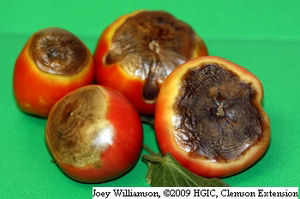blossom_rotw: (182, 63, 263, 164), (112, 14, 190, 94), (56, 97, 112, 159), (30, 29, 85, 81)
